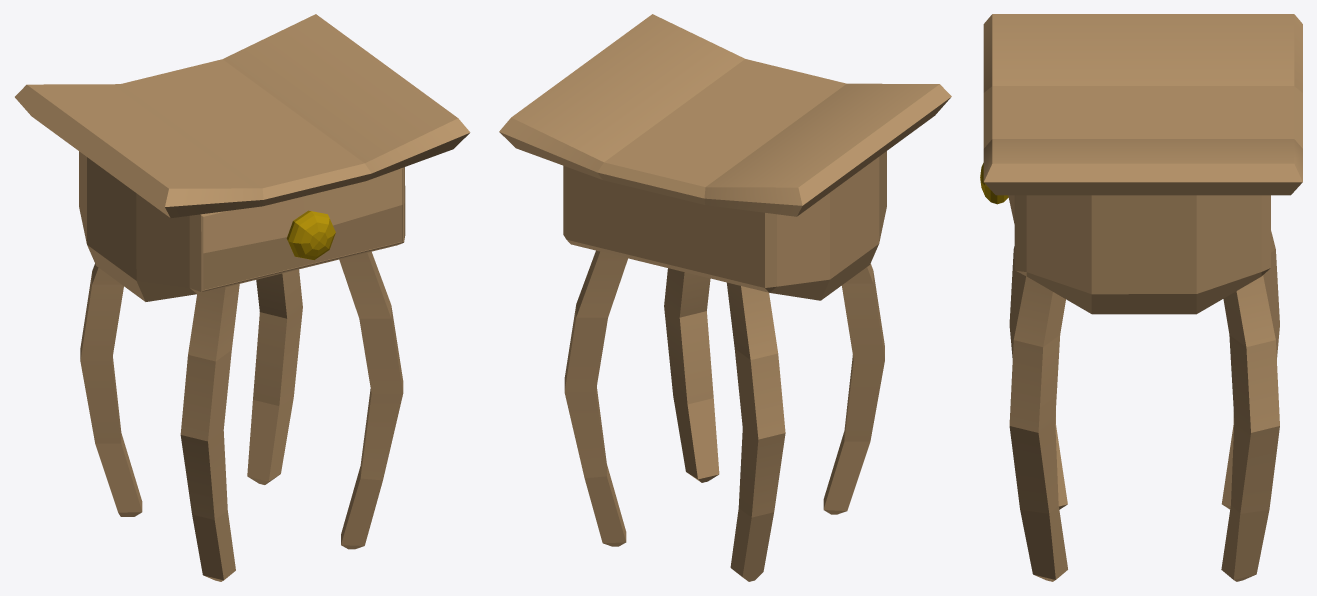
Rendered from mod_pedestal_table.fbx.
3 views of the same model, side by side, from view 1: azimuth 30°, elevation 25°; view 2: azimuth 150°, elevation 25°; view 3: azimuth 270°, elevation 25° (orthographic). The views are drawn at different scales.
Visible parts, largest first — view 1: mod_pedestal_table; view 2: mod_pedestal_table; view 3: mod_pedestal_table.
Boxes of the visible parts, left/top/right/bottom form: mod_pedestal_table: left=15, top=14, right=470, bottom=581; mod_pedestal_table: left=499, top=14, right=951, bottom=581; mod_pedestal_table: left=980, top=14, right=1302, bottom=581.
Size of the model in its own units: 41.53 by 55.94 by 35.81.
